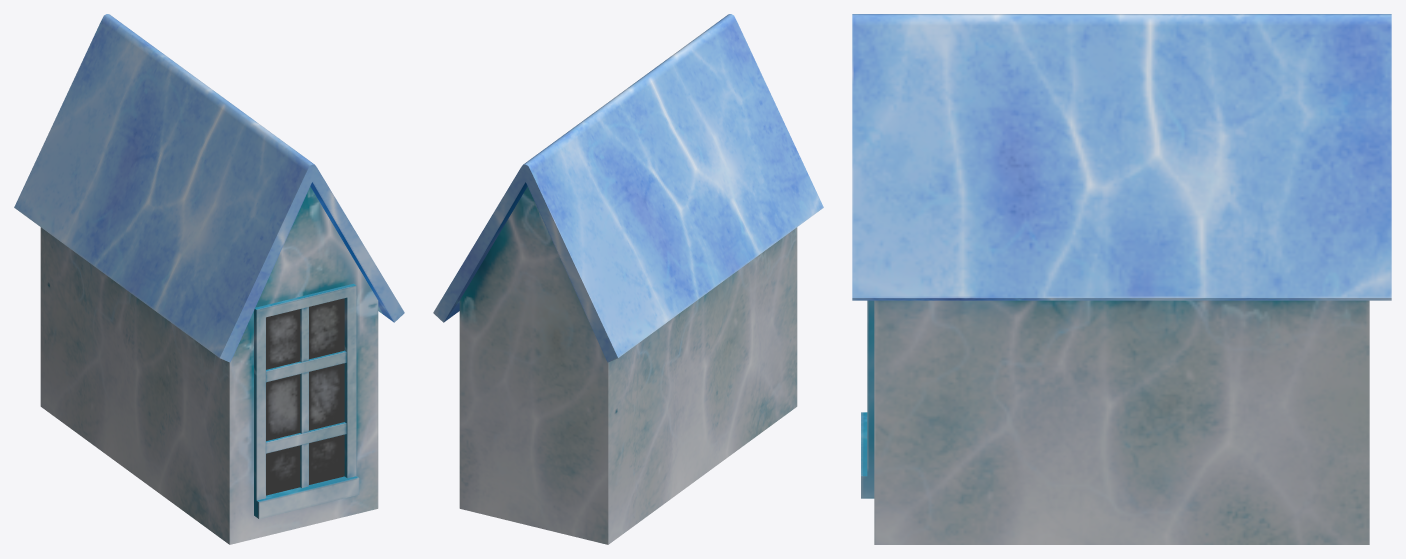
Rendered from sb_obj_outdoor023_IceCastle01_hut01.fbx.
The picture shows the model from 3 angles, left to right: view 1: azimuth 30°, elevation 25°; view 2: azimuth 150°, elevation 25°; view 3: azimuth 270°, elevation 25°; orthographic projection. The views are drawn at different scales.
Visible parts, largest first — view 1: sb_obj_outdoor023_IceCastle01_hut01; view 2: sb_obj_outdoor023_IceCastle01_hut01; view 3: sb_obj_outdoor023_IceCastle01_hut01.
Part boxes in pixels (x1=…): sb_obj_outdoor023_IceCastle01_hut01: x1=14, y1=14, x2=404, y2=544; sb_obj_outdoor023_IceCastle01_hut01: x1=433, y1=14, x2=823, y2=544; sb_obj_outdoor023_IceCastle01_hut01: x1=852, y1=14, x2=1391, y2=544.
Size of the model in its own units: 1.09 by 2.07 by 2.09.
